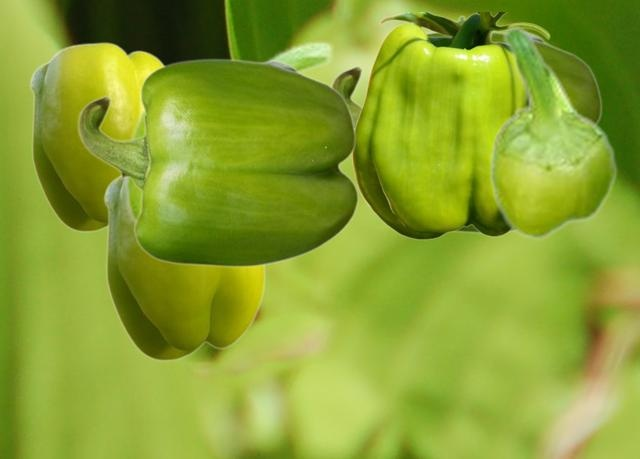bell_pepper: (77, 58, 358, 267), (330, 31, 602, 233), (351, 12, 549, 239), (123, 39, 334, 223), (103, 175, 264, 360), (488, 26, 617, 239), (29, 41, 164, 231)
